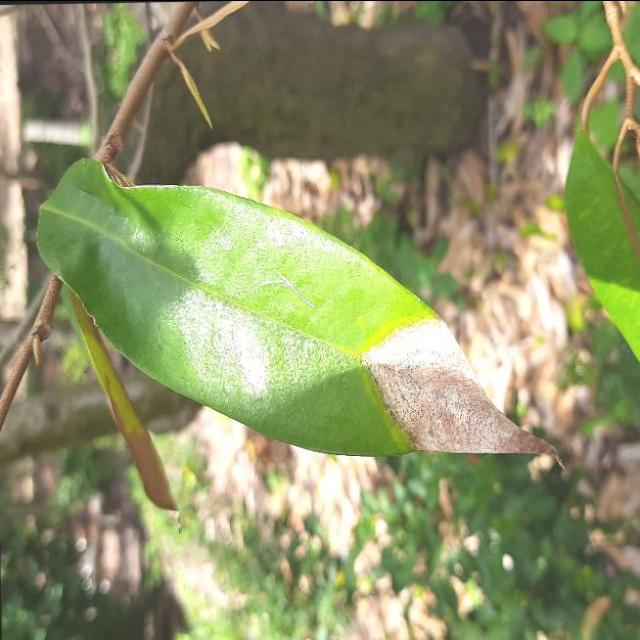Leaf Blight: (24, 135, 567, 471)
